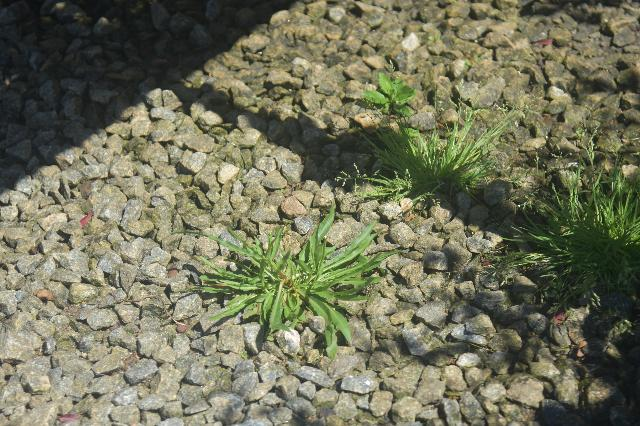MalezaMontesDelPlata: (183, 197, 406, 350), (500, 118, 640, 317), (331, 59, 520, 205)
